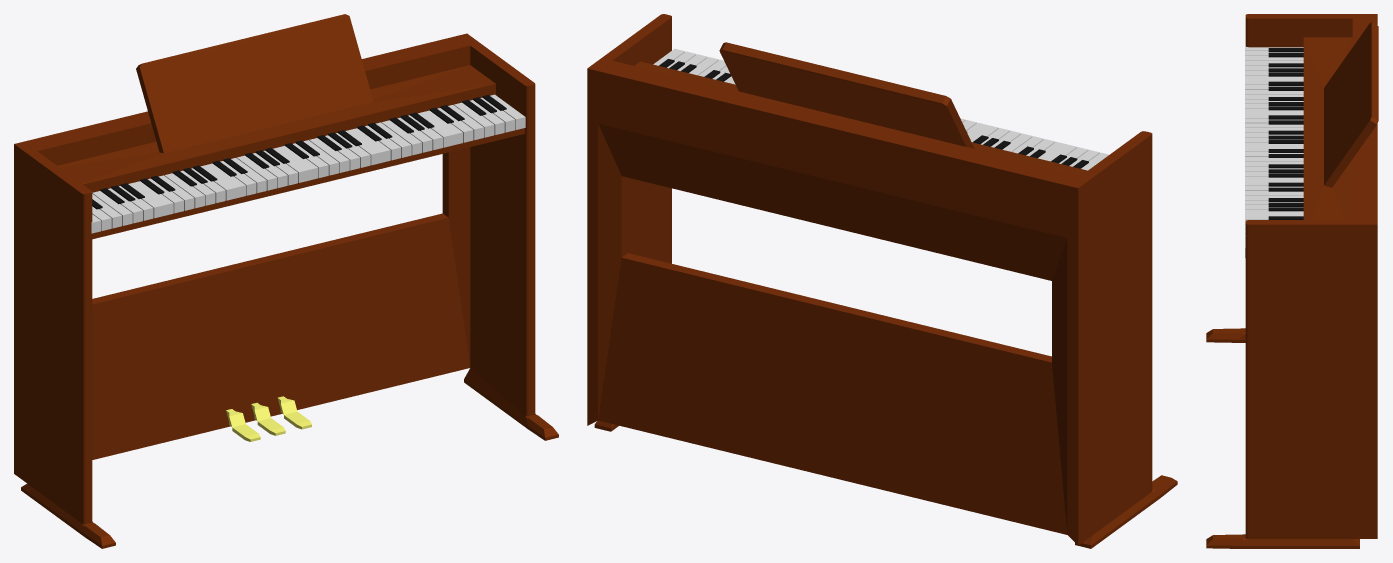
File: Piano4.fbx
3 views of the same model, side by side, from view 1: azimuth 30°, elevation 25°; view 2: azimuth 150°, elevation 25°; view 3: azimuth 270°, elevation 25° (orthographic). The views are drawn at different scales.
Parts seen in each view (by area): view 1: 49keysmidi.030; view 2: 49keysmidi.030; view 3: 49keysmidi.030.
Boxes of the visible parts, x1,y1,x2,y2 form: 49keysmidi.030: [14, 14, 558, 548]; 49keysmidi.030: [587, 14, 1177, 548]; 49keysmidi.030: [1206, 14, 1378, 548].
Bounding box in the file's own units: 139 × 114 × 47.63.
